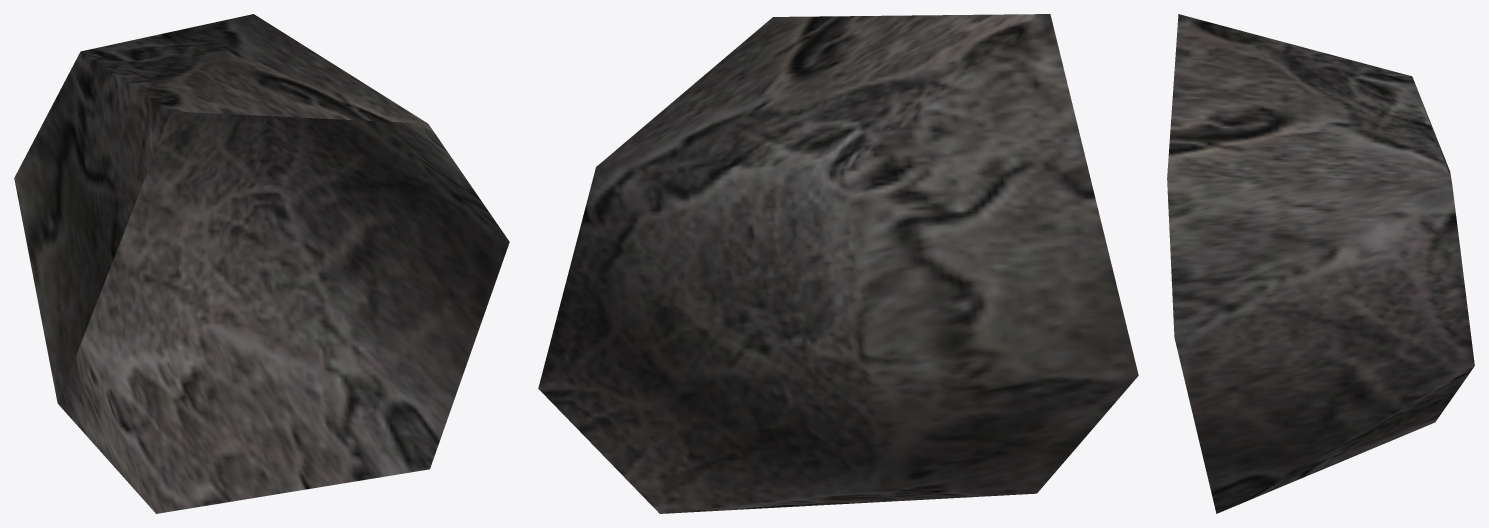
Rendered from GSW_02.fbx.
3 views of the same model, side by side, from view 1: azimuth 30°, elevation 25°; view 2: azimuth 150°, elevation 25°; view 3: azimuth 270°, elevation 25° (orthographic). The views are drawn at different scales.
Visible parts, largest first — view 1: GSW_02; view 2: GSW_02; view 3: GSW_02.
Boxes of the visible parts, box(x1,y1,x2,y2) form: GSW_02: box(14, 14, 509, 513); GSW_02: box(538, 14, 1138, 513); GSW_02: box(1167, 14, 1474, 513).
Size of the model in its own units: 1.74 by 1.7 by 1.25.
